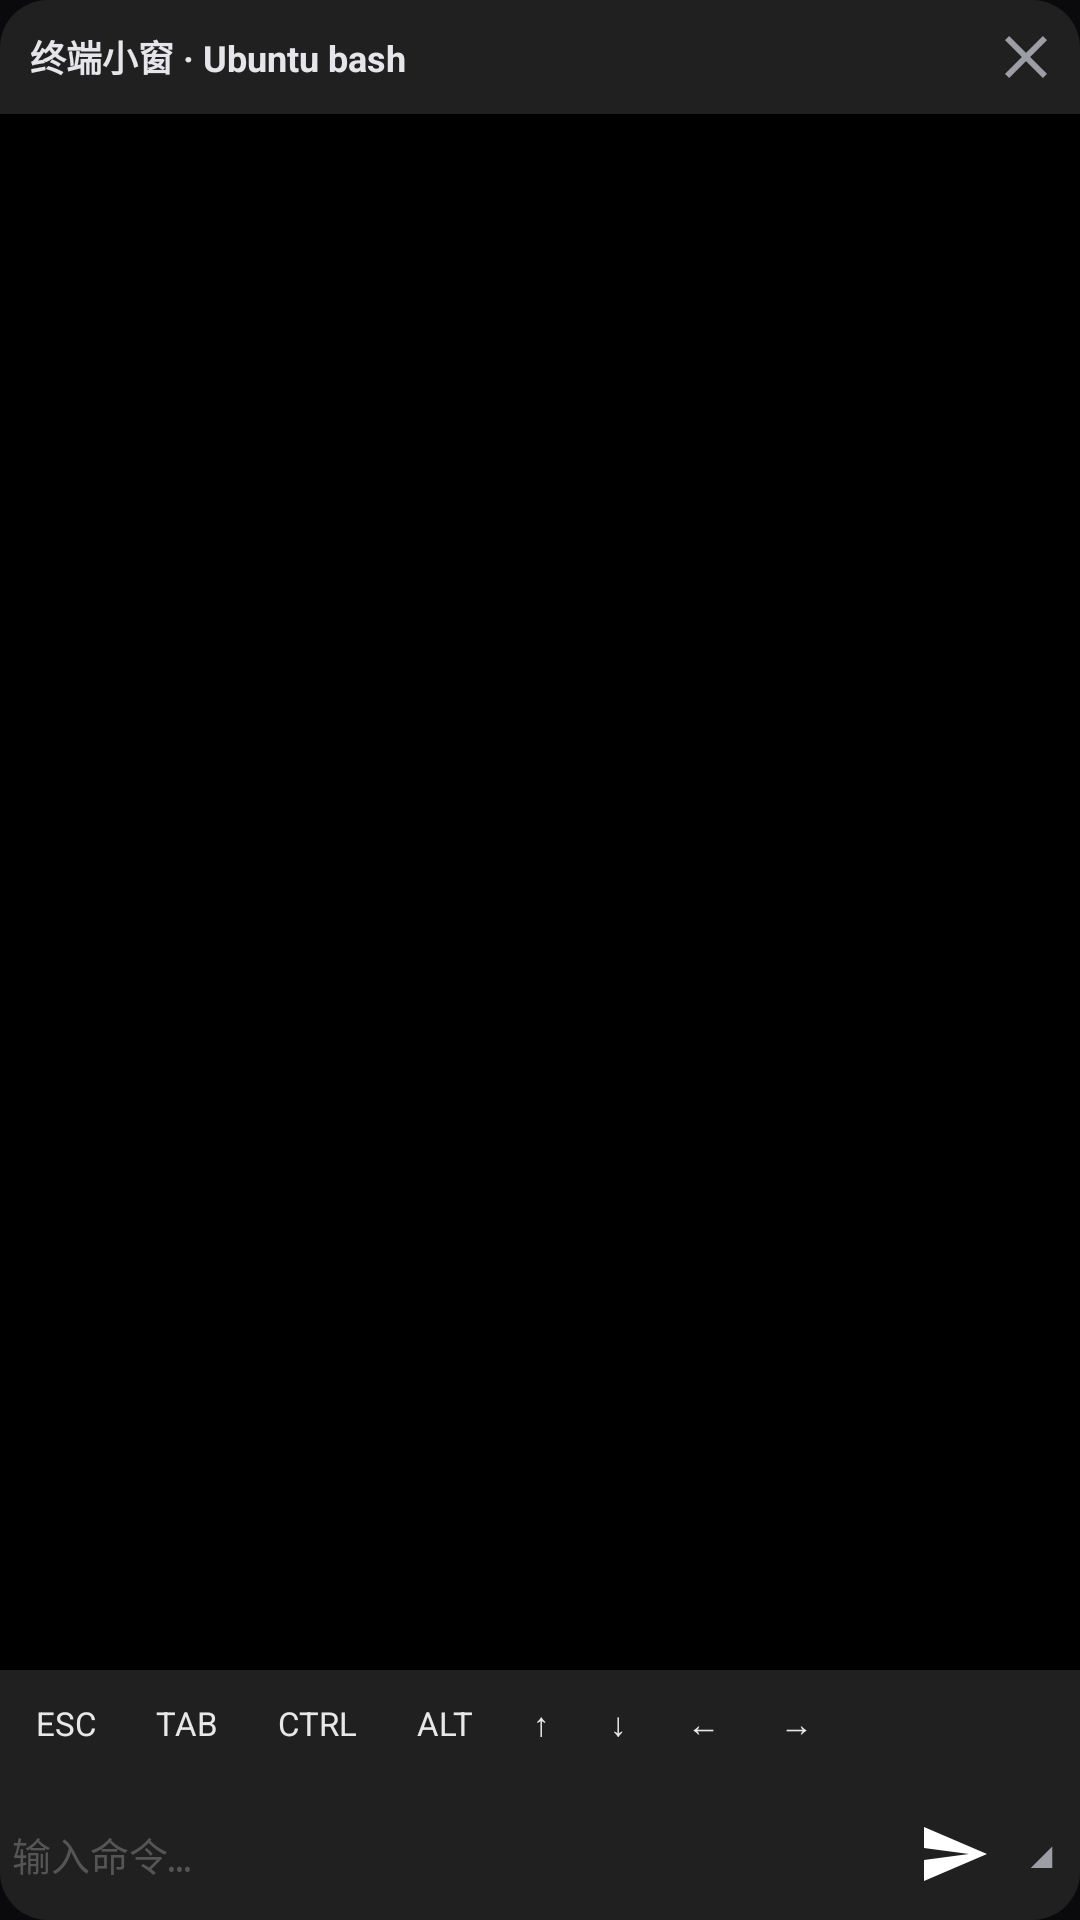

Named icons in this screenshot (1080×1920) and their centers, [x,y]:
关闭: [1026,57]
发送: [955,1854]
